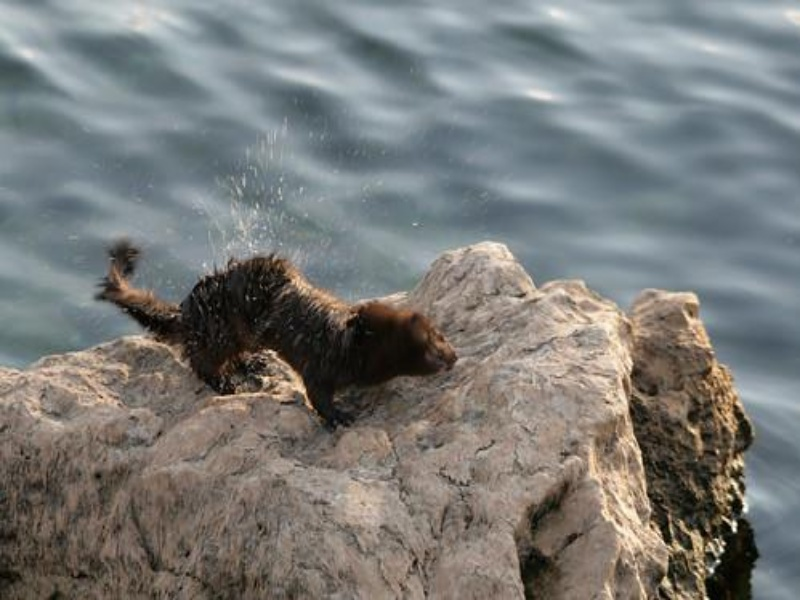minkish: (96, 237, 462, 433)
